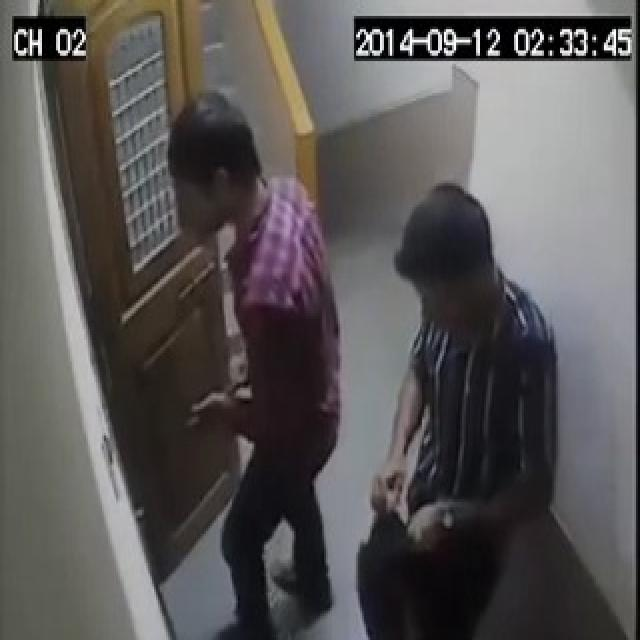thief: (153, 49, 341, 640), (359, 154, 556, 637)
